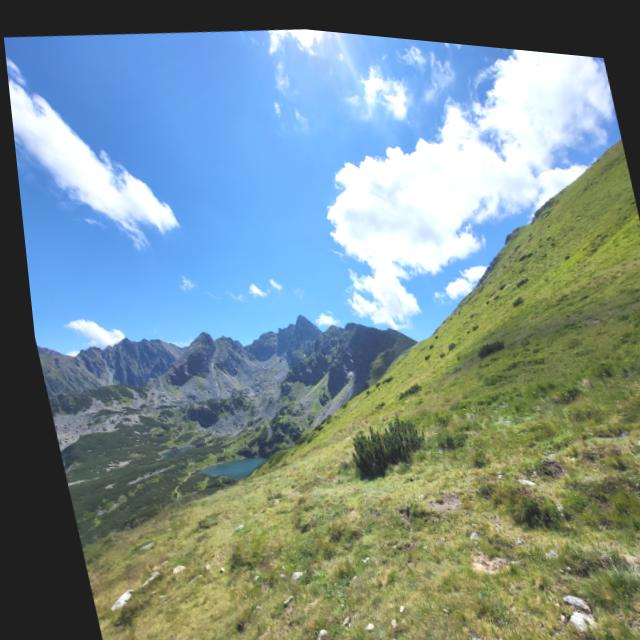Koscielec: (169, 298, 243, 370)
Skrajny i Posredni Granat: (67, 291, 180, 390)
Swinica: (245, 264, 355, 369)
